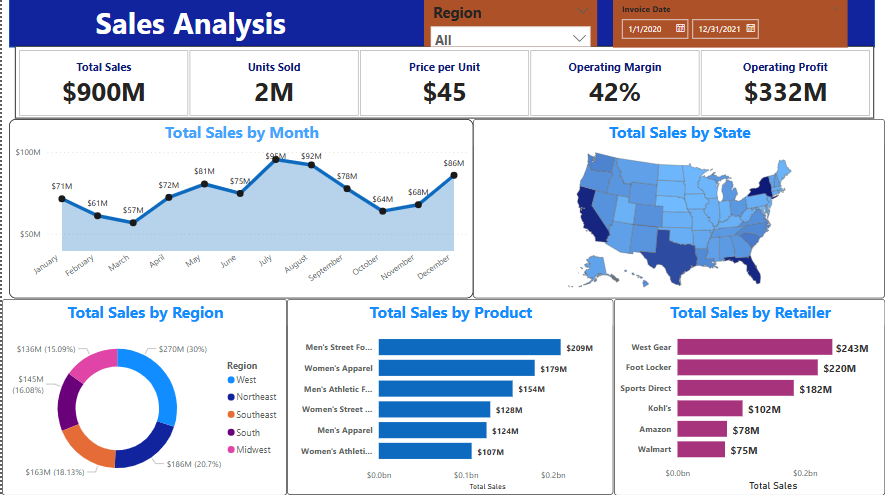

This screenshot's page, from the dashboard's own definition file:
{"tool":"powerbi","page":{"name":"Page 1","canvas":[1280,720],"ordinal":0},"visuals":[{"type":"shape","box":[10,0,1255,70],"z":0},{"type":"textbox","box":[130.9,0,439.5,70.5],"z":1000},{"type":"areaChart","title":"Total Sales by Month","fields":{"Category":["Data Sales Adidas.Invoice Date.Variation.Date Hierarchy.Month"],"Y":["Sum(Data Sales Adidas.Total Sales)"]},"box":[9.6,174,672.6,260.3],"z":2000},{"type":"shapeMap","title":"Total Sales by State","fields":{"Category":["Data Sales Adidas.State"],"Value":["Sum(Data Sales Adidas.Total Sales)"]},"box":[682.2,174,597.3,260.3],"z":3000},{"type":"donutChart","fields":{"Category":["Data Sales Adidas.Region"],"Y":["Sum(Data Sales Adidas.Total Sales)"]},"box":[0,434.9,413.3,285.1],"z":4000},{"type":"barChart","fields":{"Category":["Data Sales Adidas.Product"],"Y":["Sum(Data Sales Adidas.Total Sales)"]},"box":[413.7,434.2,472.6,283.6],"z":5000},{"type":"barChart","fields":{"Y":["Sum(Data Sales Adidas.Total Sales)"],"Category":["Data Sales Adidas.Retailer"]},"box":[886.3,434.2,393.2,284.9],"z":6000},{"type":"cardVisual","fields":{"Data":["Sum(Data Sales Adidas.Total Sales)","Sum(Data Sales Adidas.Units Sold)","Avg(Data Sales Adidas.Price per Unit)","Avg(Data Sales Adidas.Operating Margin)","Sum(Data Sales Adidas.Operating Profit)"]},"box":[19.2,68.5,1245.2,105.5],"z":8000},{"type":"slicer","fields":{"Values":["Data Sales Adidas.Region"]},"box":[612,0,250.6,69.1],"z":8001},{"type":"slicer","fields":{"Values":["Data Sales Adidas.Invoice Date"]},"box":[885.6,1.4,339.8,69.1],"z":8002}]}

Visuals, with their boxes in screenshot pixels (x1, y1, x2, y2), scaled from the page's 1280x720 canvas onto the 885x495 screenshot:
shape: [7, 0, 875, 48]
textbox: [91, 0, 394, 48]
"Total Sales by Month" areaChart: [7, 120, 472, 299]
"Total Sales by State" shapeMap: [472, 120, 884, 299]
donutChart - Data Sales Adidas.Region x Sum(Data Sales Adidas.Total Sales): [0, 299, 286, 494]
barChart - Data Sales Adidas.Product x Sum(Data Sales Adidas.Total Sales): [286, 299, 613, 493]
barChart - Sum(Data Sales Adidas.Total Sales) x Data Sales Adidas.Retailer: [613, 299, 884, 494]
cardVisual - Sum(Data Sales Adidas.Total Sales) x Sum(Data Sales Adidas.Units Sold): [13, 47, 874, 120]
slicer - Data Sales Adidas.Region: [423, 0, 596, 48]
slicer - Data Sales Adidas.Invoice Date: [612, 1, 847, 48]
